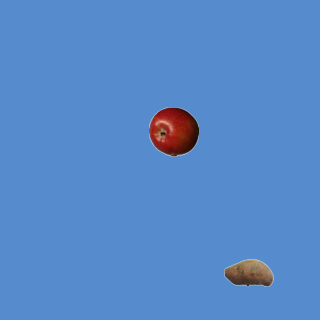Apple Braeburn: (148, 106, 198, 156)
Potato Sweet: (223, 247, 273, 297)
